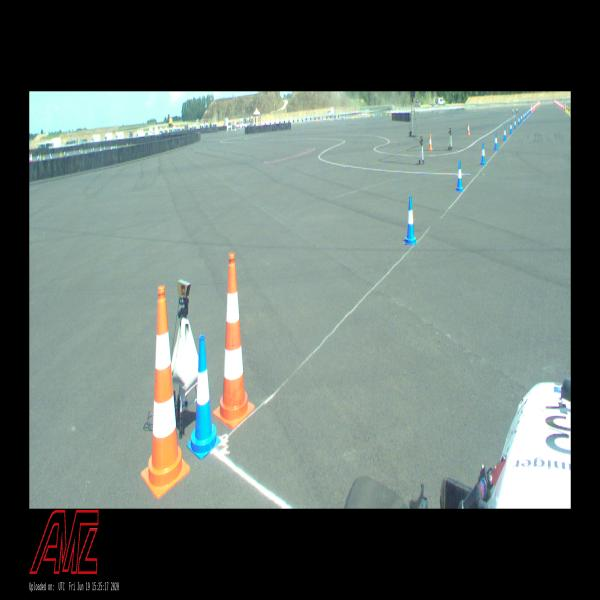blue_cone: (186, 335, 221, 458), (404, 195, 418, 244), (456, 161, 464, 191), (480, 142, 486, 166), (494, 132, 498, 150), (503, 126, 507, 141), (510, 122, 512, 134), (514, 118, 516, 129), (518, 115, 520, 126), (520, 113, 522, 122)
large_orange_cone: (141, 286, 190, 499), (213, 253, 255, 429)
orange_cone: (428, 134, 433, 151), (467, 124, 470, 135)
